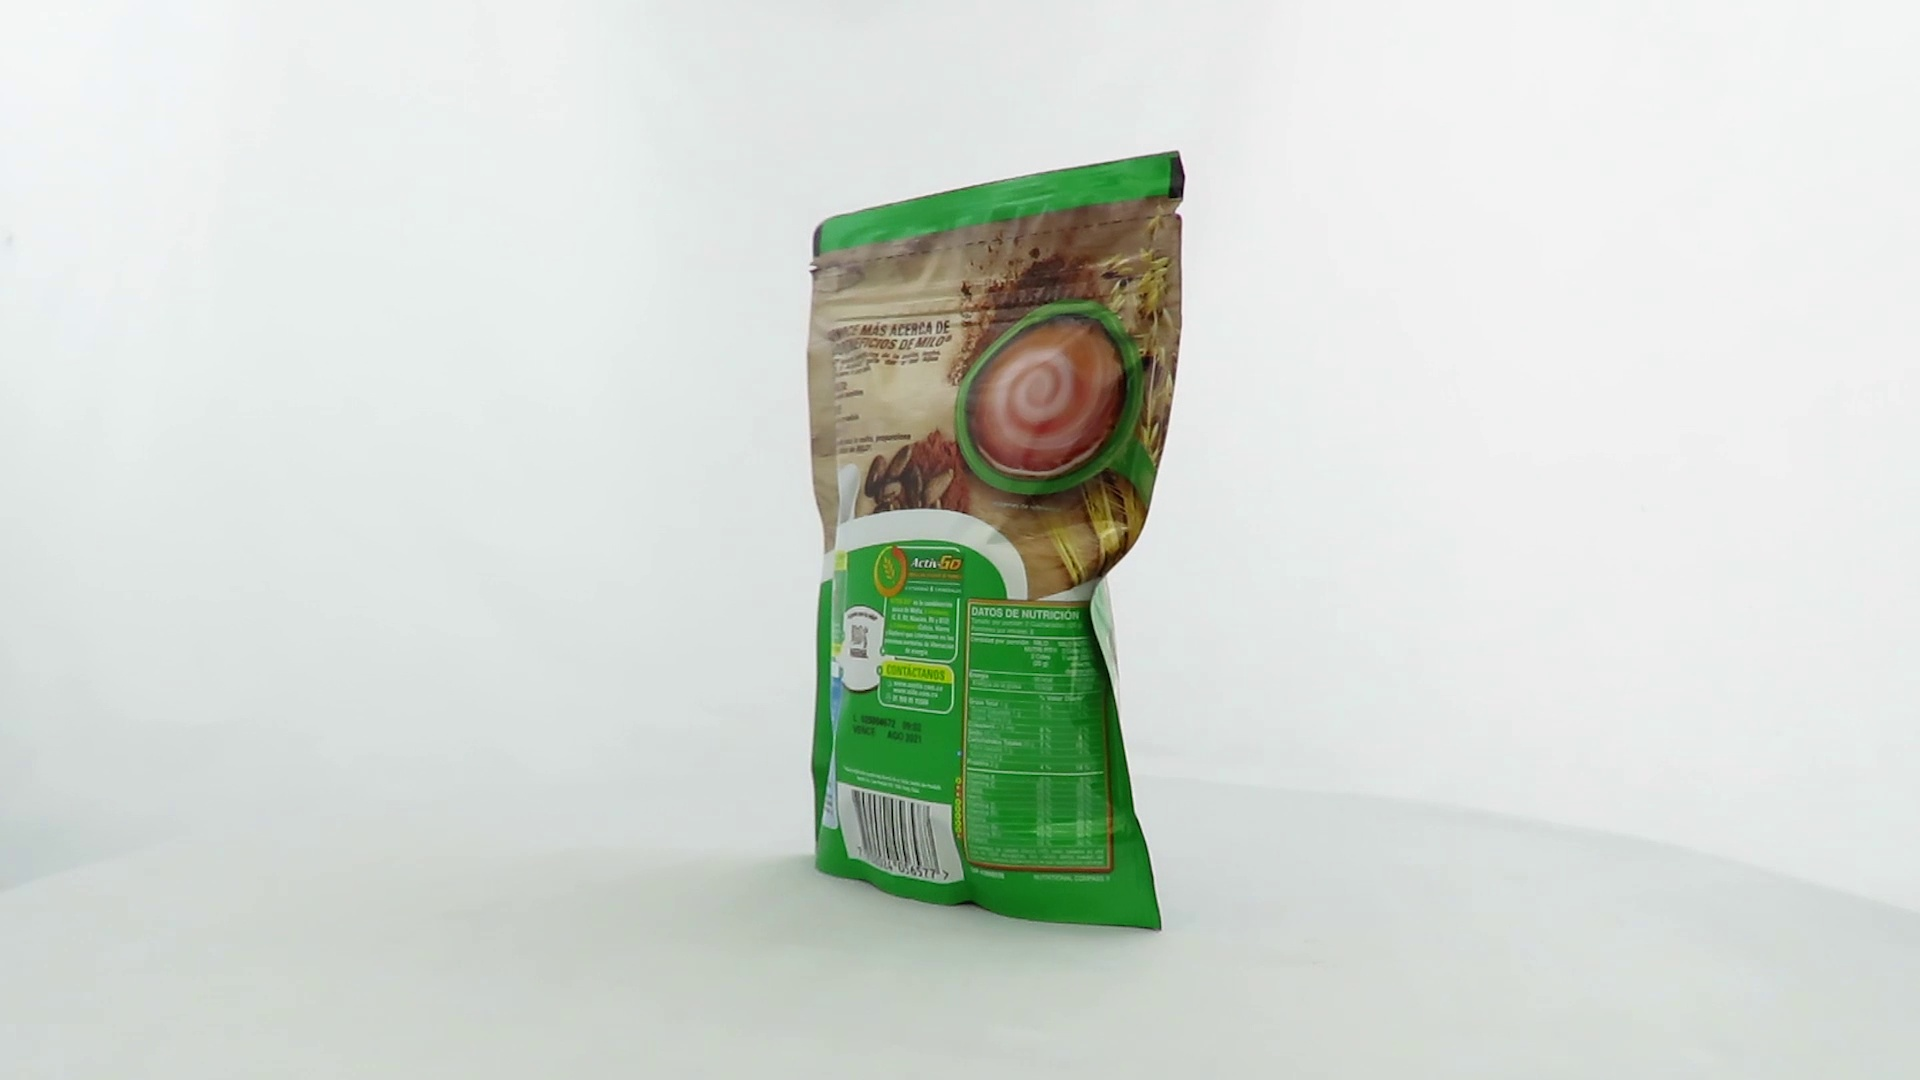COL0170205DYP20000: (790, 145, 1191, 939)
